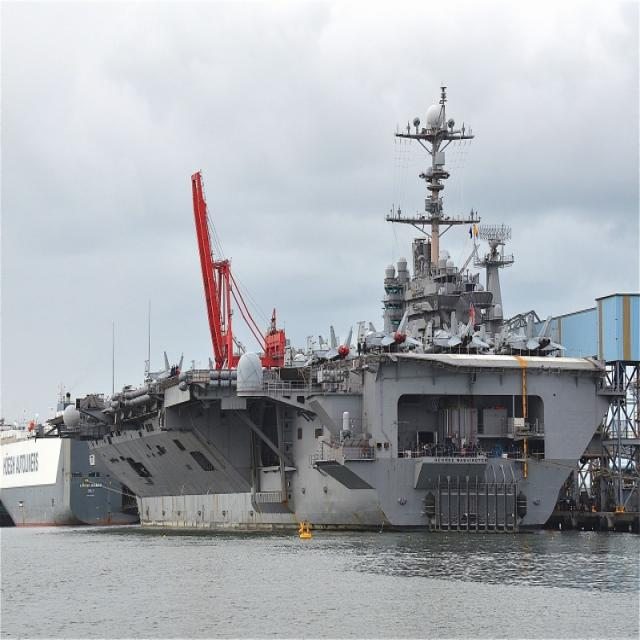Portanaves: (83, 75, 617, 536)
